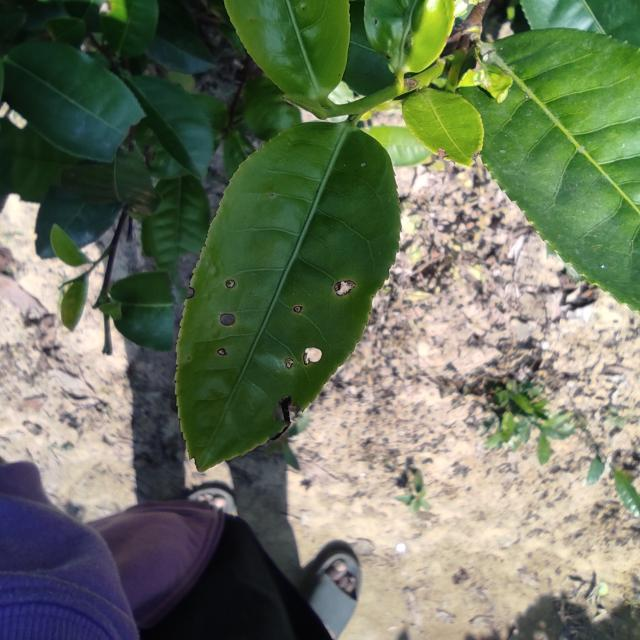Category C 4-7 days: (156, 80, 423, 488)
